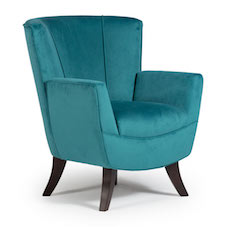chair: (12, 10, 216, 217)
